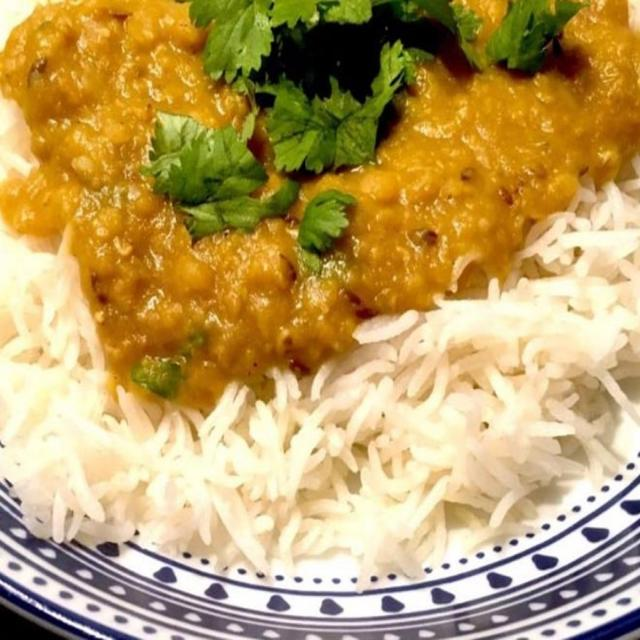dal: (0, 2, 640, 414)
rice: (1, 2, 640, 579)
